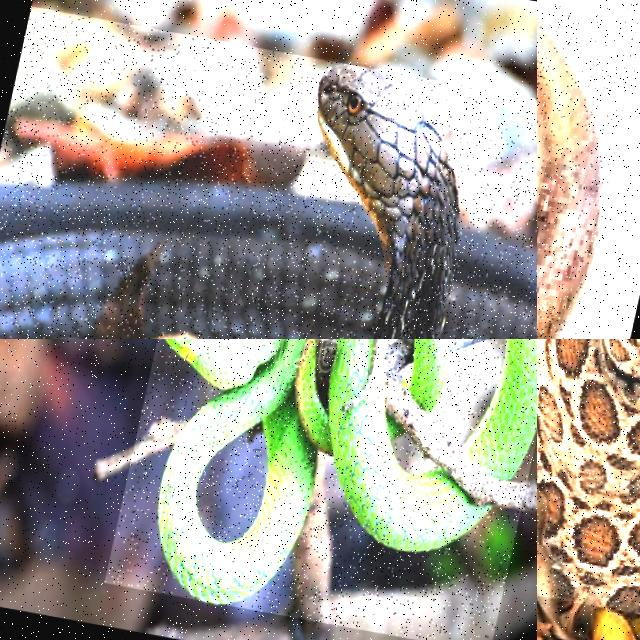Calliophis maculiceps: (537, 25, 601, 338)
Daboia siamensis: (537, 339, 639, 614)
Ophiophagus hannah: (0, 65, 536, 338)
Trimeresurus macrops: (158, 339, 486, 603)
